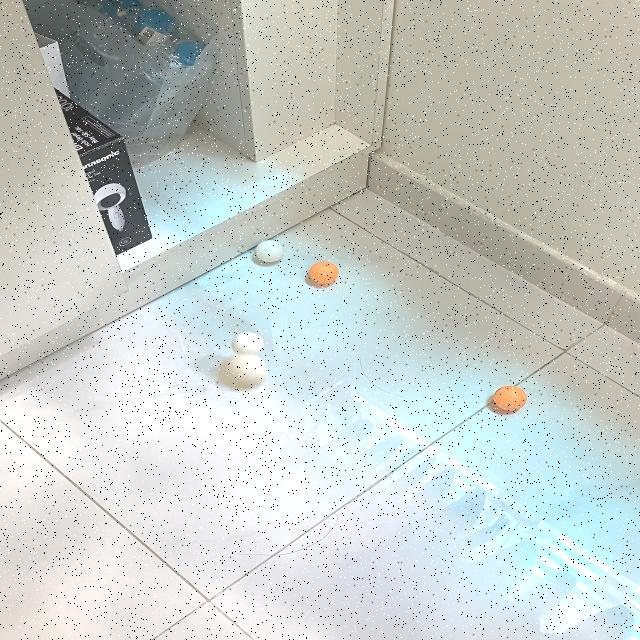ping-pong-ball: (220, 354, 269, 389), (232, 331, 266, 357), (494, 386, 528, 412), (254, 240, 284, 264), (308, 262, 340, 284)
